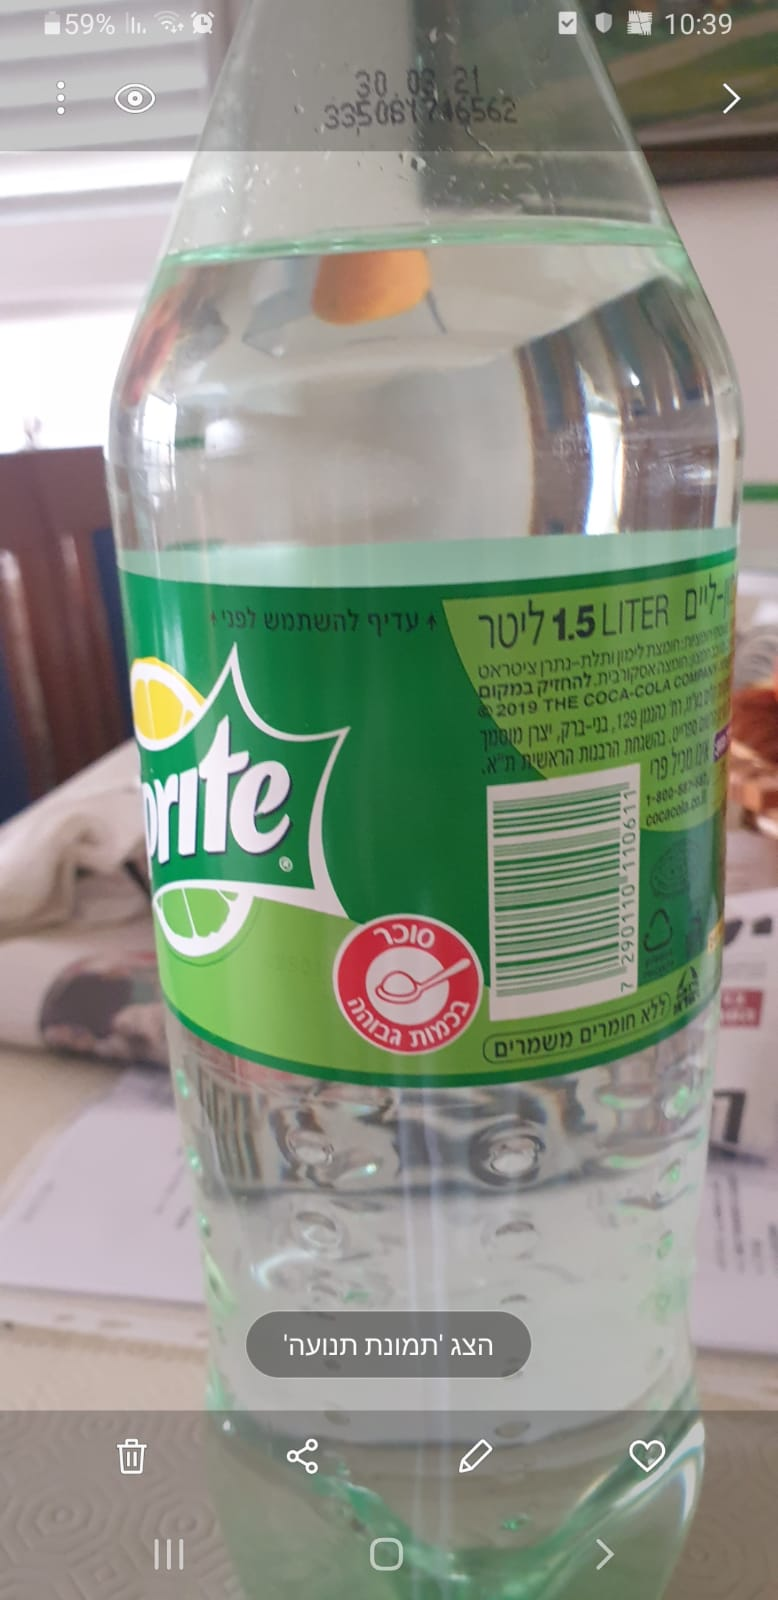sugar: (330, 915, 481, 1058)
